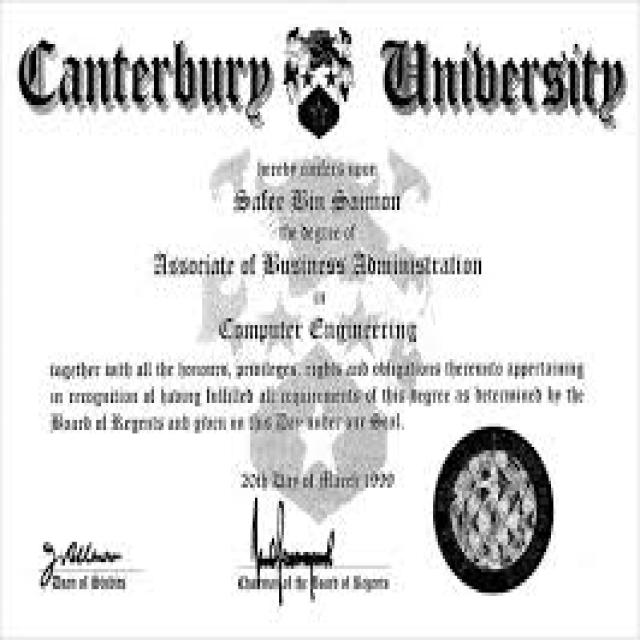degree: (218, 310, 425, 344)
stamp: (426, 426, 557, 600), (247, 492, 338, 604), (32, 535, 138, 602)
